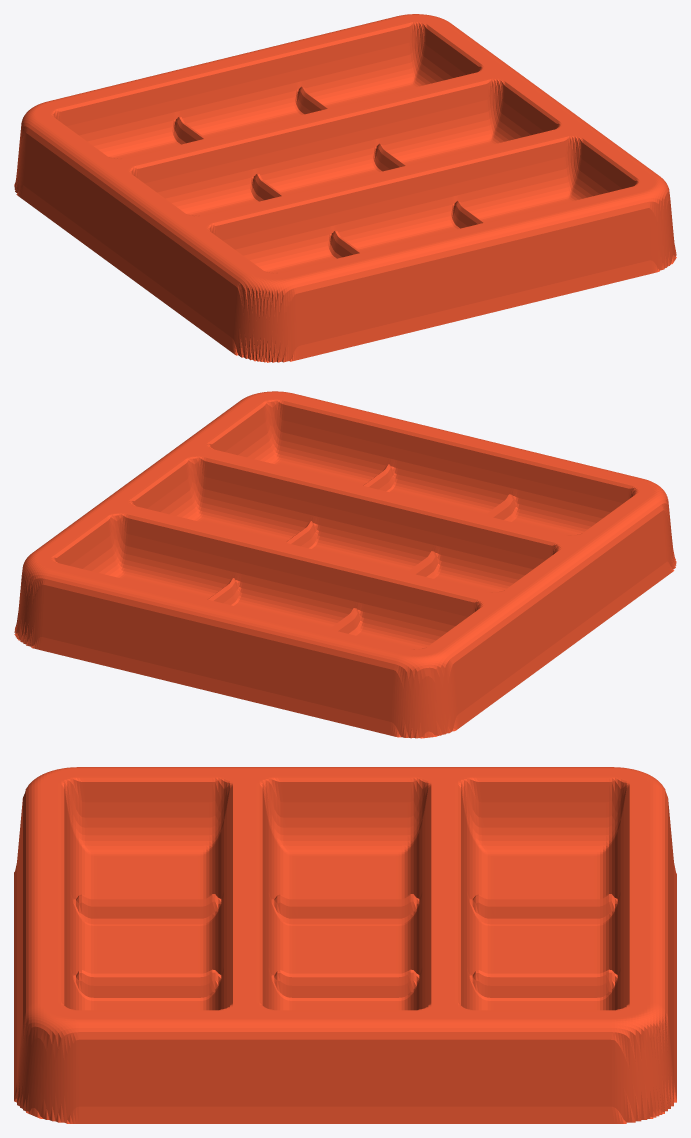
The model's file is mold.glb.
3 views of the same model, one above another, from view 1: azimuth 30°, elevation 25°; view 2: azimuth 150°, elevation 25°; view 3: azimuth 270°, elevation 25° (orthographic). The views are drawn at different scales.
Parts seen in each view (by area): view 1: geometry_0; view 2: geometry_0; view 3: geometry_0.
Boxes of the visible parts, x1=… form: geometry_0: x1=14, y1=14, x2=676, y2=362; geometry_0: x1=14, y1=391, x2=676, y2=738; geometry_0: x1=14, y1=767, x2=676, y2=1123.
Bounding box in the file's own units: 0.0906 × 0.0145 × 0.0931.
